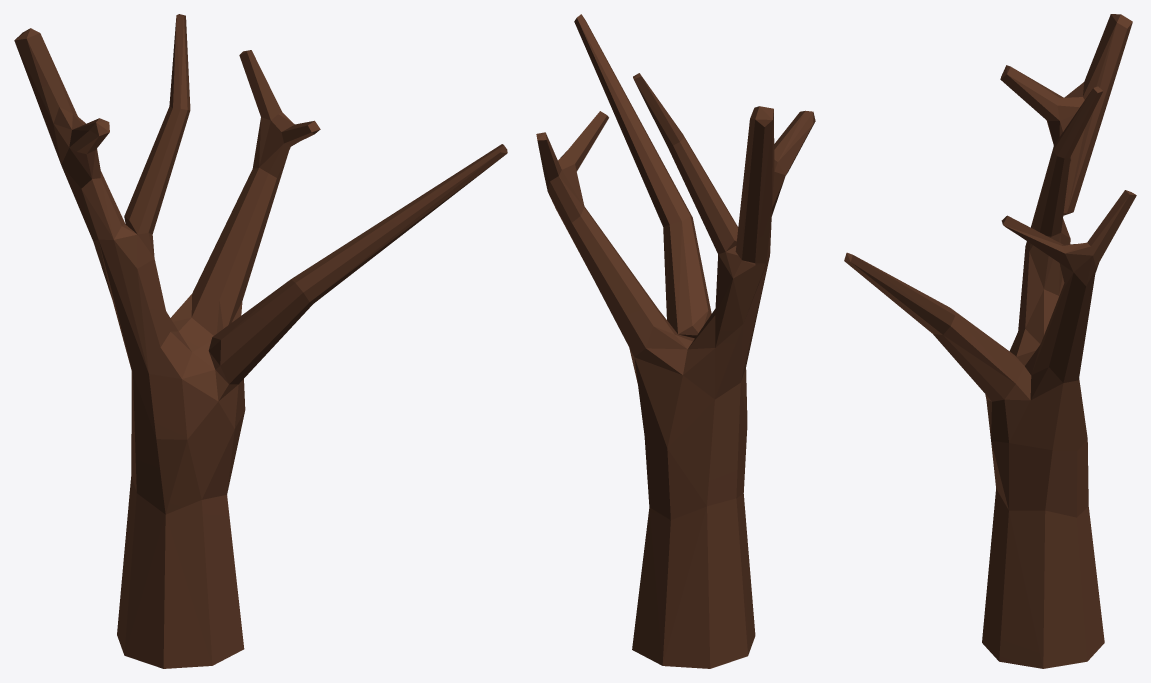
File: 2Stad.fbx
3 renders of one model, left to right at view 1: azimuth 30°, elevation 25°; view 2: azimuth 150°, elevation 25°; view 3: azimuth 270°, elevation 25°, orthographic. The views are drawn at different scales.
Visible parts, largest first — view 1: Cube.038; view 2: Cube.038; view 3: Cube.038.
Part boxes in pixels (box(x1,y1,x2,y2)): Cube.038: box(14, 14, 507, 668); Cube.038: box(536, 14, 815, 668); Cube.038: box(844, 14, 1136, 668).
Size of the model in its own units: 32.33 by 54.04 by 24.8.
